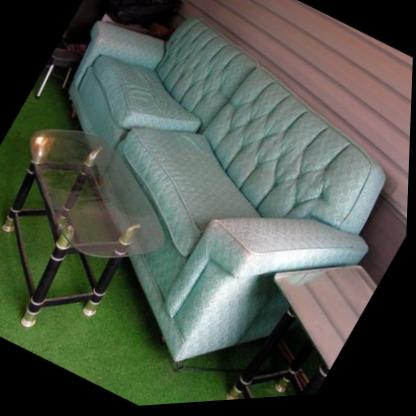Sofa: (0, 0, 416, 416)
Table: (0, 101, 203, 369), (189, 231, 387, 405)
